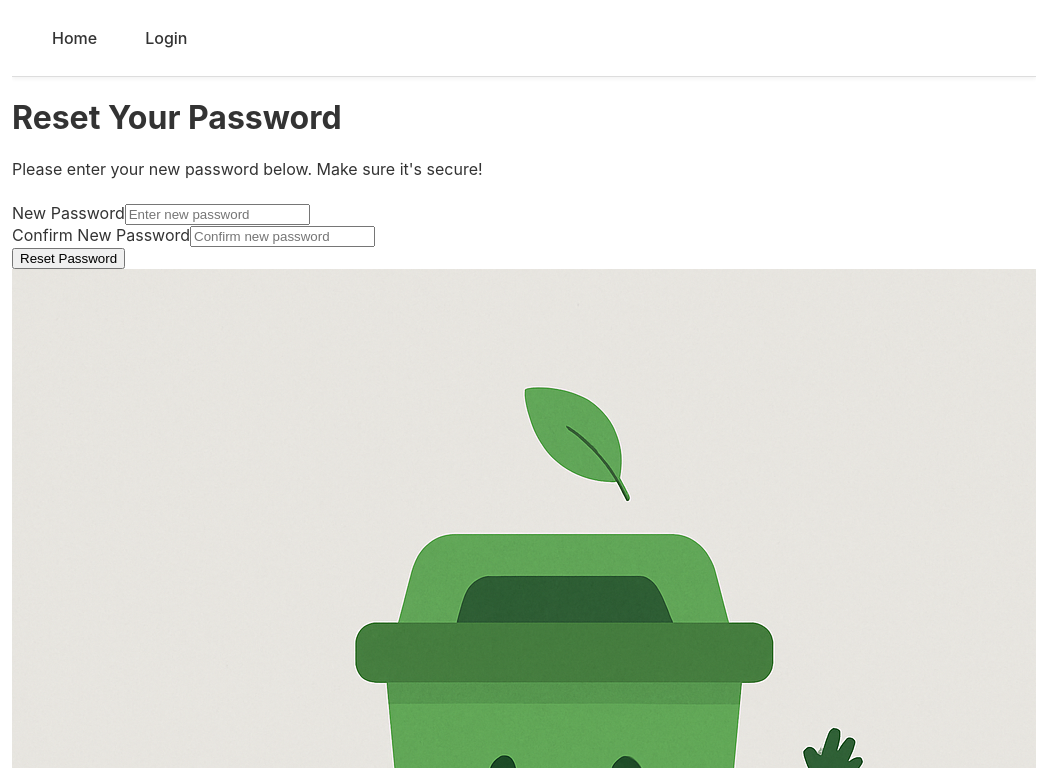
ResetPasswordPage Component › validates short password
Type "short" into the password field labelled "New Password" at {"x": 217, "y": 214}, box x1=125 y1=204 x2=310 y2=225
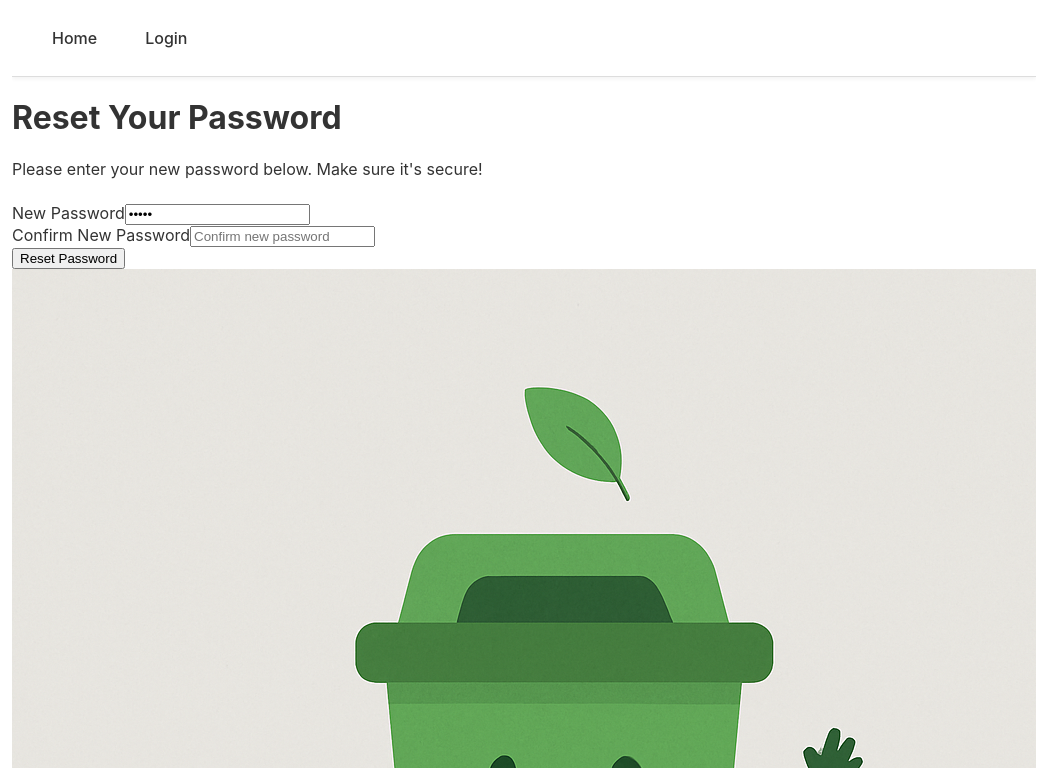
Type "short" into the password field labelled "Confirm New Password" at {"x": 283, "y": 236}, box x1=190 y1=226 x2=375 y2=247
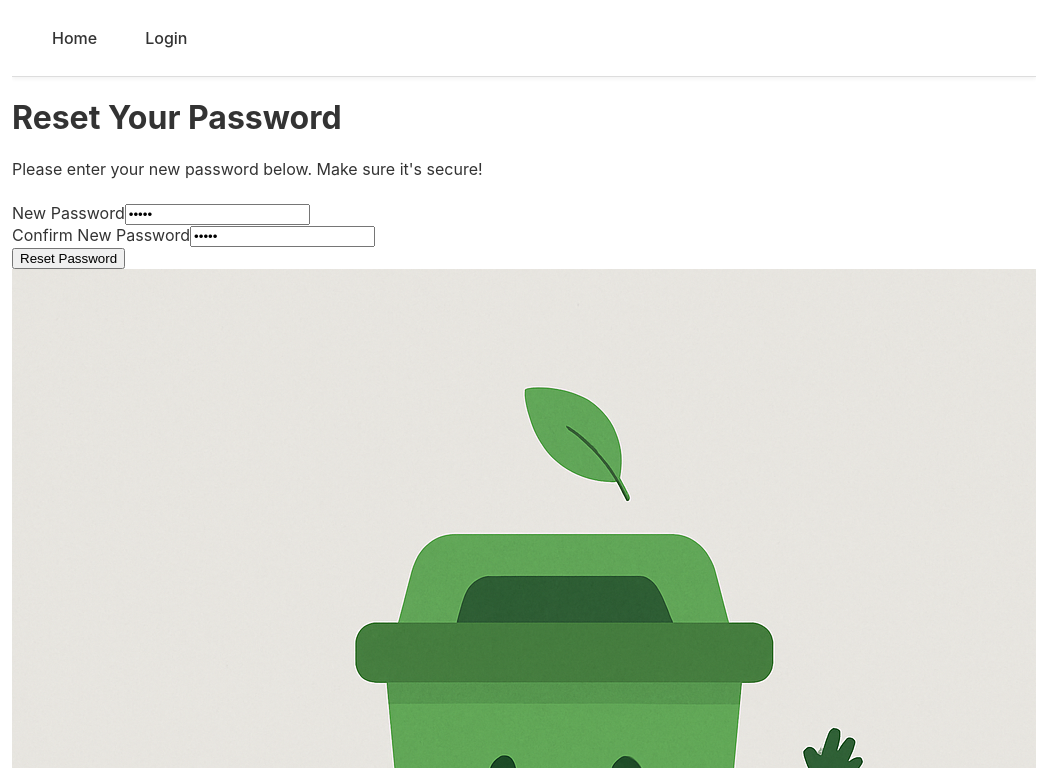
Click the button "Reset Password" at {"x": 68, "y": 258}, box x1=12 y1=248 x2=125 y2=269
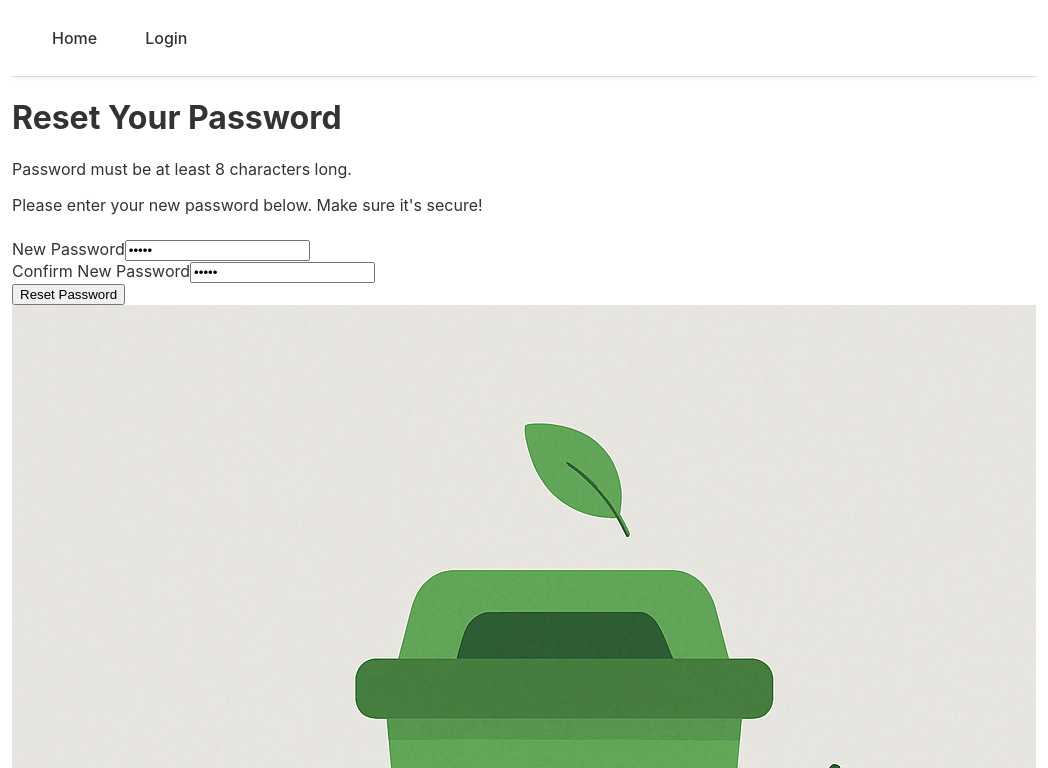
expect the text "Password must be at least 8 characters long." is shown: met, box x1=12 y1=159 x2=352 y2=179
